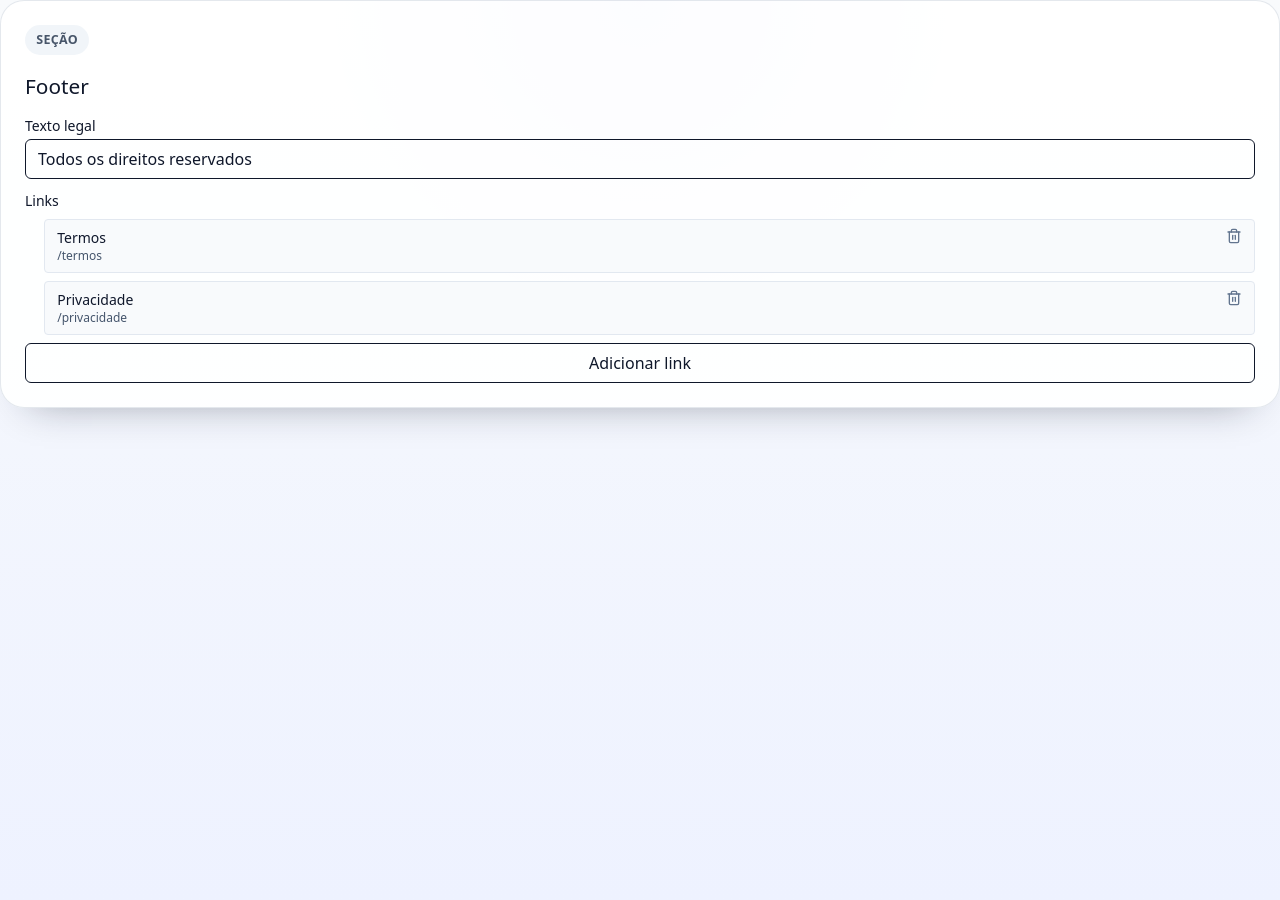
Scenario: FooterEditor › confirming remove modal removes the link and closes modal
Click the 1st button named "remover link" at (1234, 236), box [1226,228,1242,244]
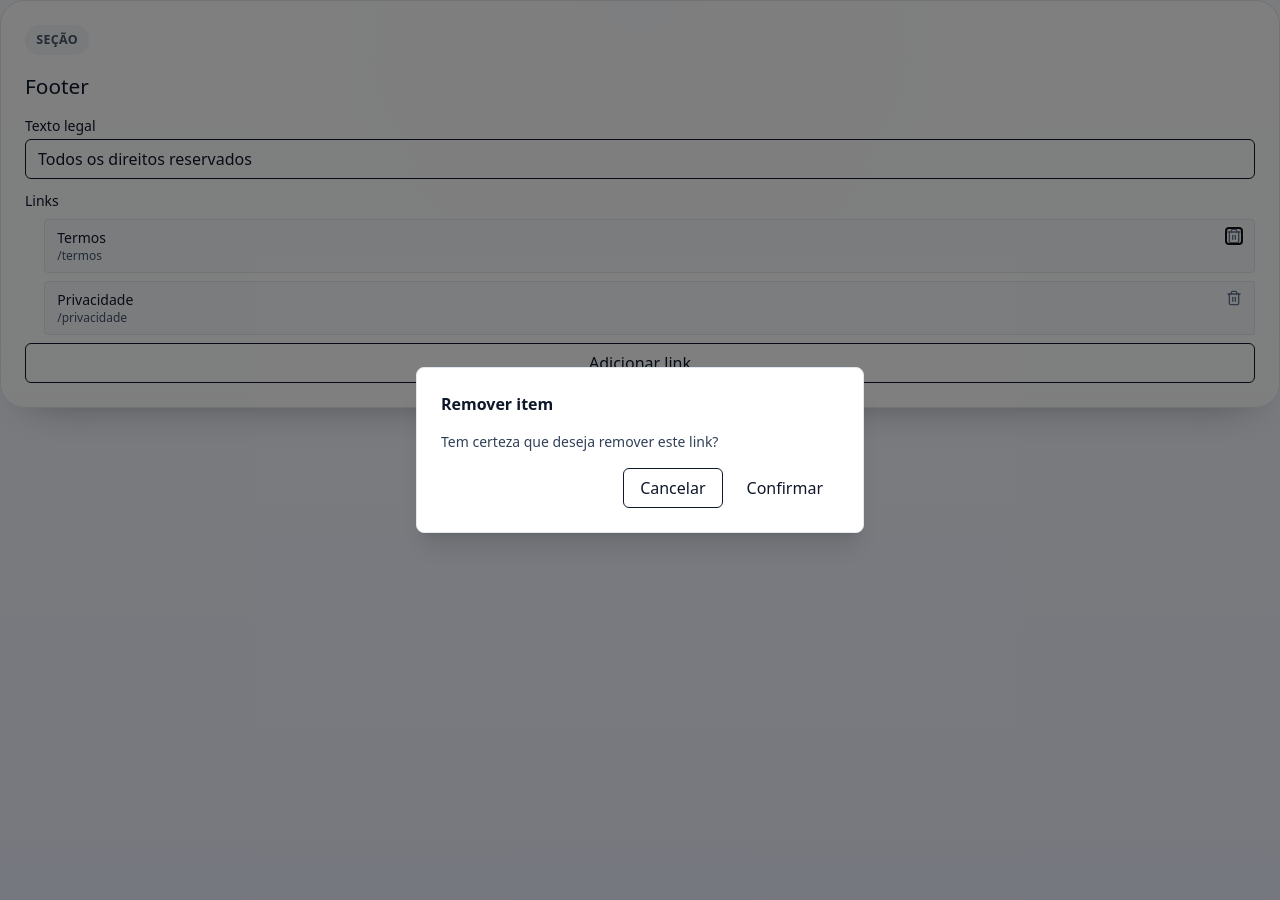
Click the button "Confirmar" at (785, 488), box [730,468,839,508]
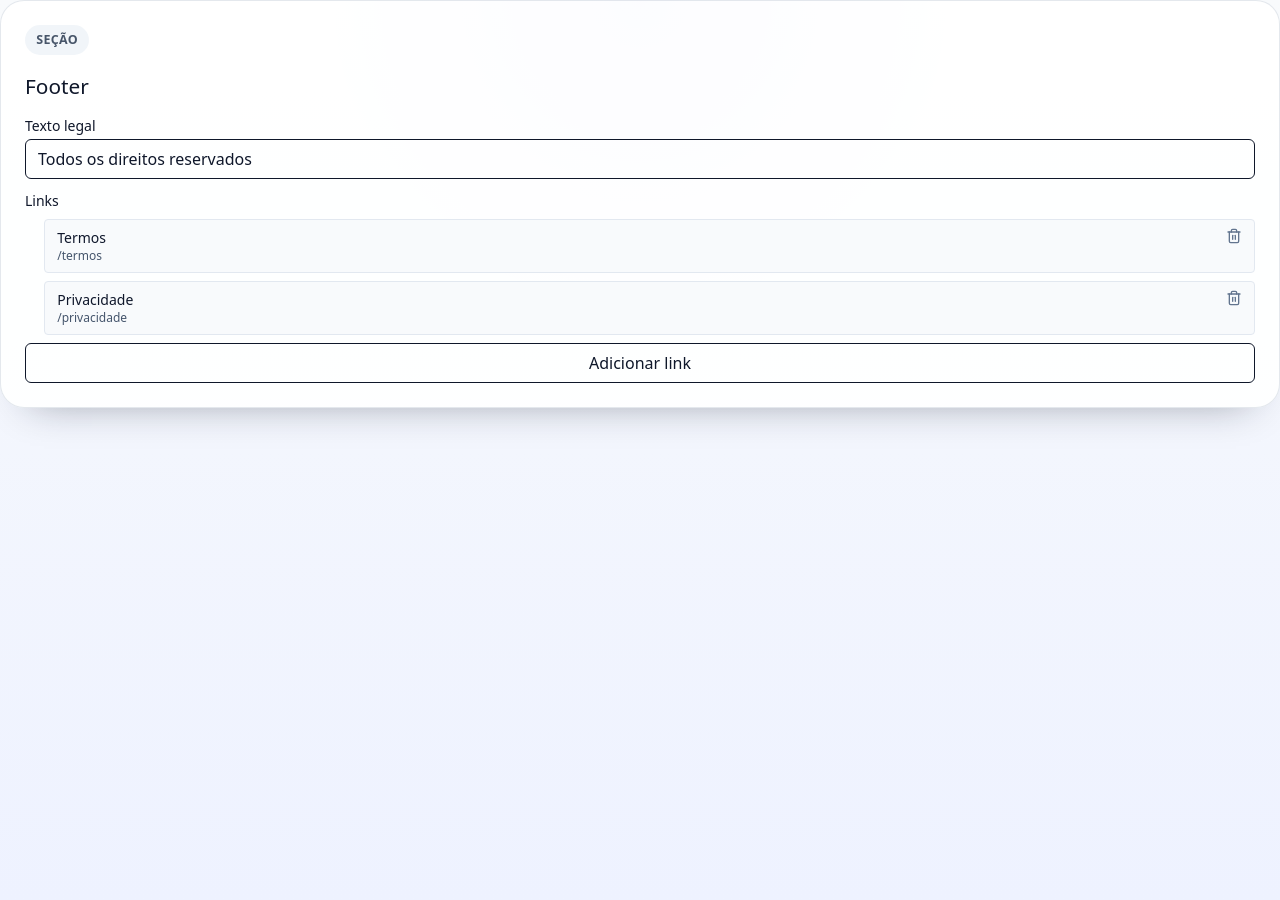
Result: the dialog is gone
